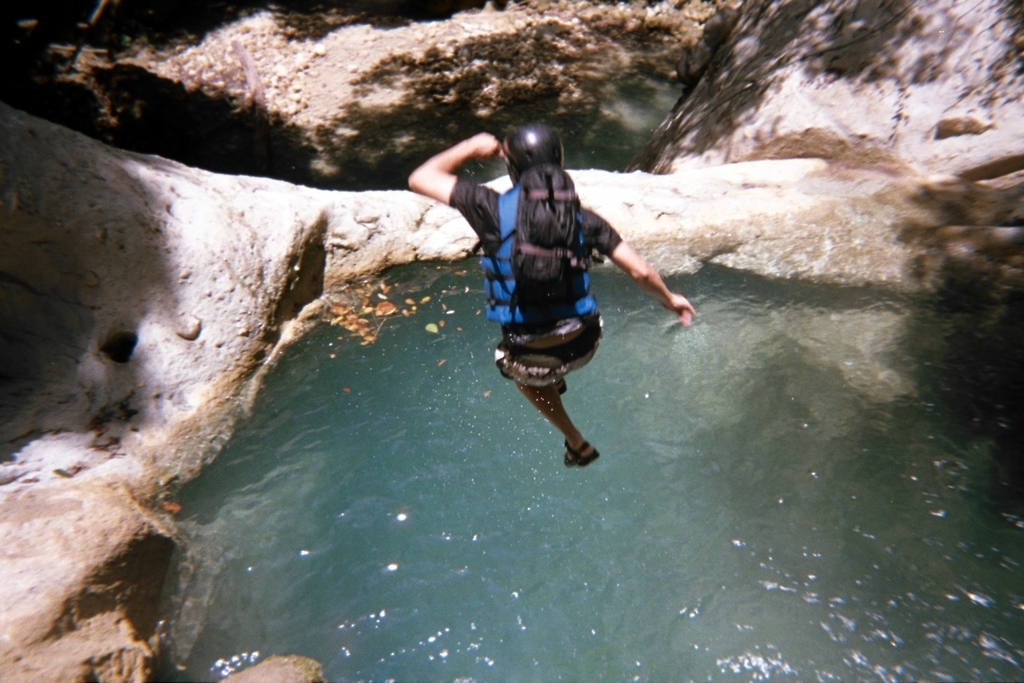Person: (407, 120, 696, 468)
